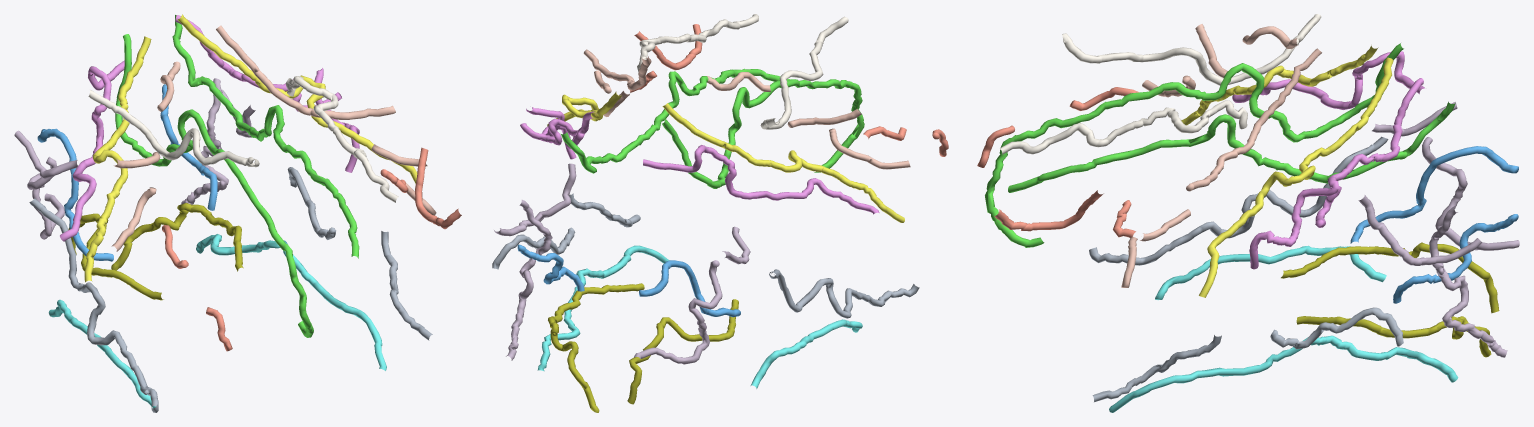
The model's file is sulci.lod1.glb.
The picture shows the model from 3 angles, left to right: view 1: azimuth 30°, elevation 25°; view 2: azimuth 150°, elevation 25°; view 3: azimuth 270°, elevation 25°; orthographic projection. The views are drawn at different scales.
Visible parts, largest first — view 1: cingulate-sulcus-r, cingulate-sulcus-l, superior-temporal-sulcus-r, central-sulcus-r, precentral-sulcus-l, postcentral-sulcus-r, collateral-sulcus-l, central-sulcus-l, superior-frontal-sulcus-r, calcarine-sulcus-l, superior-temporal-sulcus-l, superior-frontal-sulcus-l (+10 smaller); view 2: cingulate-sulcus-r, intraparietal-sulcus-l, cingulate-sulcus-l, postcentral-sulcus-r, central-sulcus-r, intraparietal-sulcus-r, precentral-sulcus-r, superior-temporal-sulcus-r, calcarine-sulcus-l, collateral-sulcus-l, superior-frontal-sulcus-r, superior-temporal-sulcus-l (+10 smaller); view 3: cingulate-sulcus-r, cingulate-sulcus-l, intraparietal-sulcus-l, collateral-sulcus-l, postcentral-sulcus-l, central-sulcus-l, superior-temporal-sulcus-l, superior-frontal-sulcus-l, superior-temporal-sulcus-r, precentral-sulcus-l, superior-frontal-sulcus-r, intraparietal-sulcus-r (+10 smaller).
Boxes of the visible parts, <box> form: cingulate-sulcus-r: <box>115,34,313,337</box>; cingulate-sulcus-l: <box>172,15,359,258</box>; superior-temporal-sulcus-r: <box>29,198,158,412</box>; central-sulcus-r: <box>84,36,151,282</box>; precentral-sulcus-l: <box>216,25,436,215</box>; postcentral-sulcus-r: <box>60,60,124,241</box>; collateral-sulcus-l: <box>196,234,386,370</box>; central-sulcus-l: <box>177,14,417,183</box>; superior-frontal-sulcus-r: <box>88,90,259,167</box>; calcarine-sulcus-l: <box>111,203,243,271</box>; superior-temporal-sulcus-l: <box>287,167,432,340</box>; superior-frontal-sulcus-l: <box>285,76,398,202</box>; cingulate-sulcus-r: <box>662,79,864,188</box>; intraparietal-sulcus-l: <box>494,163,576,360</box>; cingulate-sulcus-l: <box>561,68,789,173</box>; postcentral-sulcus-r: <box>643,145,879,214</box>; central-sulcus-r: <box>662,103,904,222</box>; intraparietal-sulcus-r: <box>634,226,750,364</box>; precentral-sulcus-r: <box>707,72,910,169</box>; superior-temporal-sulcus-r: <box>769,269,919,318</box>; calcarine-sulcus-l: <box>548,283,644,412</box>; collateral-sulcus-l: <box>537,245,669,371</box>; superior-frontal-sulcus-r: <box>760,16,848,129</box>; superior-temporal-sulcus-l: <box>492,193,640,269</box>; cingulate-sulcus-r: <box>985,43,1403,247</box>; cingulate-sulcus-l: <box>1008,101,1455,192</box>; intraparietal-sulcus-l: <box>1358,195,1507,357</box>; collateral-sulcus-l: <box>1109,335,1458,412</box>; postcentral-sulcus-l: <box>1249,78,1423,269</box>; central-sulcus-l: <box>1199,57,1393,297</box>; superior-temporal-sulcus-l: <box>1092,307,1403,402</box>; superior-frontal-sulcus-l: <box>1000,100,1247,154</box>; superior-temporal-sulcus-r: <box>1089,136,1388,265</box>; precentral-sulcus-l: <box>1121,48,1321,287</box>; superior-frontal-sulcus-r: <box>1062,14,1321,85</box>; intraparietal-sulcus-r: <box>1372,102,1519,250</box>.
Size of the model in its own units: 0.1193 by 0.0977 by 0.1472.
